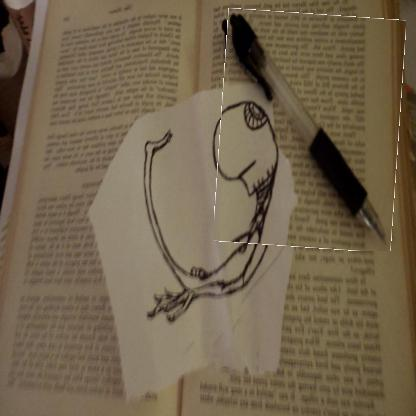Pen: (216, 11, 402, 250)
